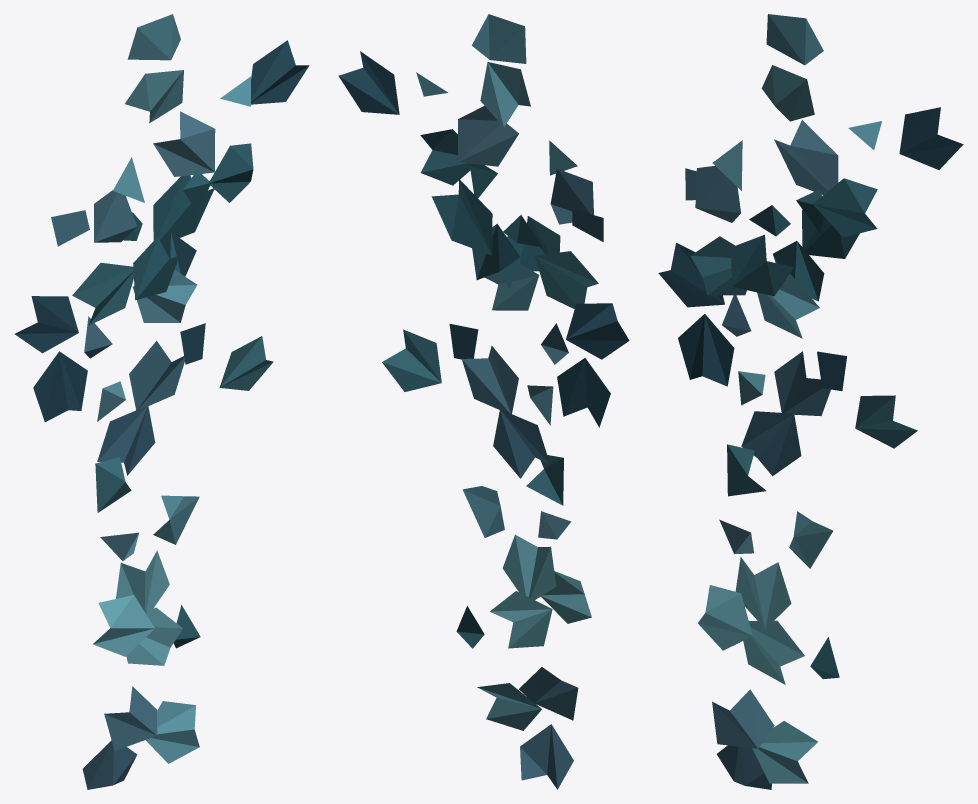
Rendered from SM_Env_Ivy_05.fbx.
The picture shows the model from 3 angles, left to right: view 1: azimuth 30°, elevation 25°; view 2: azimuth 150°, elevation 25°; view 3: azimuth 330°, elevation 25°; orthographic projection. The views are drawn at different scales.
Parts seen in each view (by area): view 1: SM_Env_Ivy_05; view 2: SM_Env_Ivy_05; view 3: SM_Env_Ivy_05.
Part boxes in pixels (box(x1,y1,x2,y2)): SM_Env_Ivy_05: box(14, 14, 309, 789); SM_Env_Ivy_05: box(338, 14, 629, 789); SM_Env_Ivy_05: box(658, 14, 963, 789).
Size of the model in its own units: 1.66 by 4.09 by 0.2458.
Materials: 1 (1 with a texture image).
